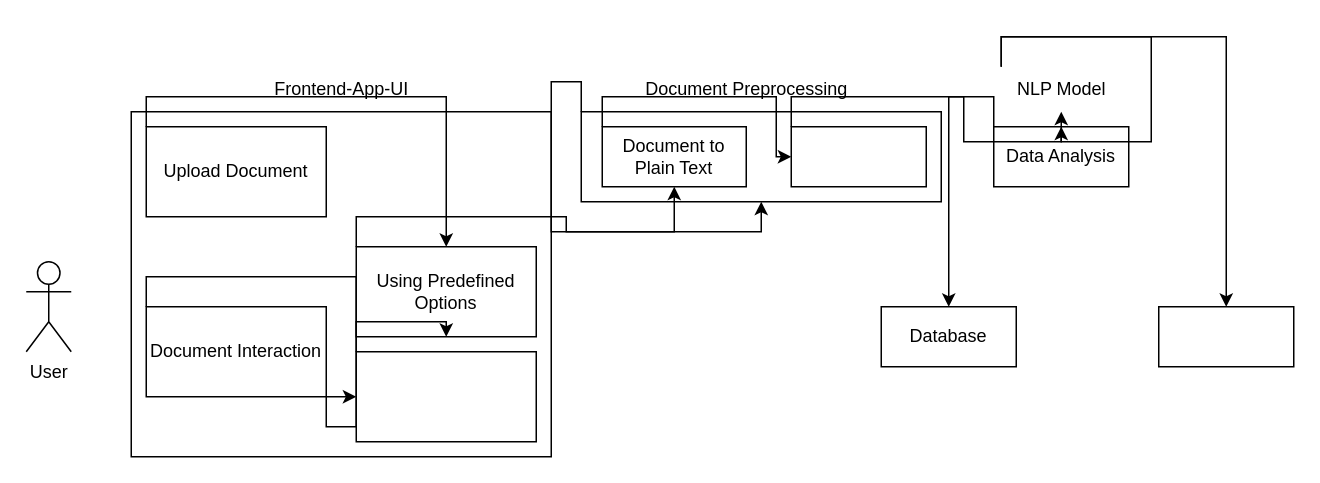
The diagram is 1320 pixels wide and 483 high, and some of its shapes have lost their labels. Here are the shapes that lost their labels. From the top down, the box of each, then its label:
(790, 125, 926, 187): Tokenization
(1157, 305, 1294, 367): Output
(355, 350, 536, 442): Asking from the Chatbot
